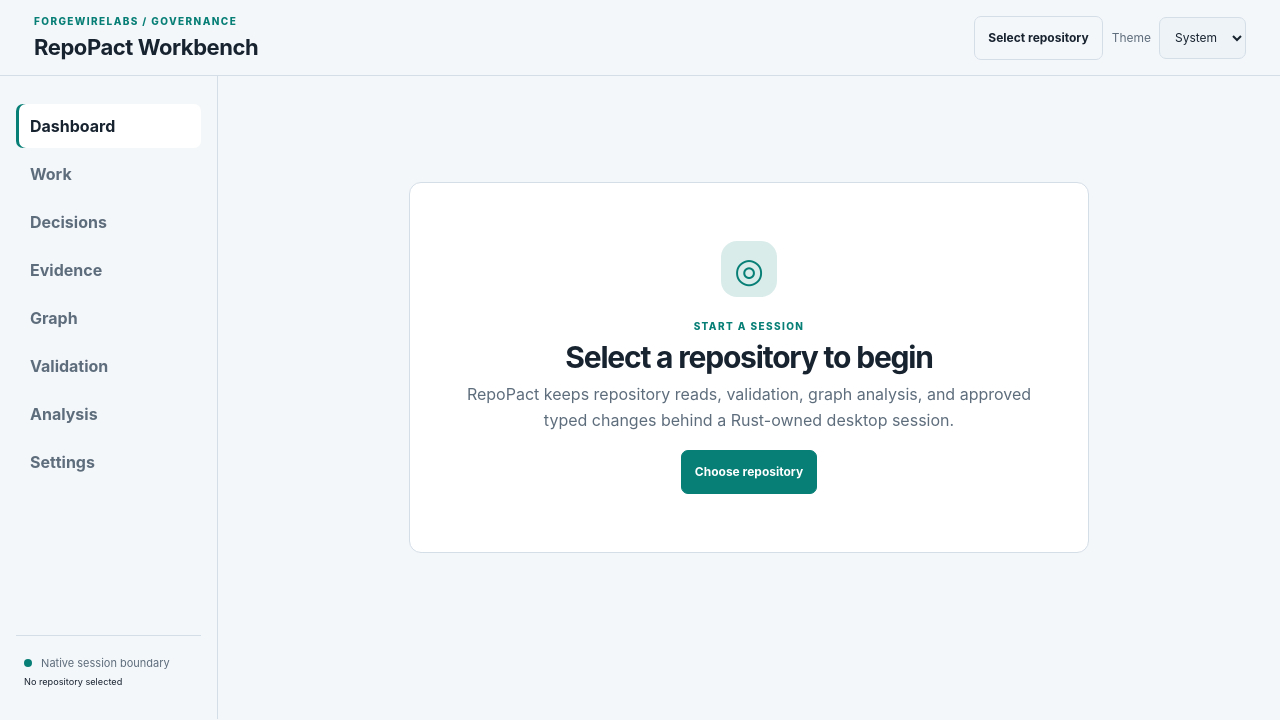
Scenario: adaptive workbench information architecture › discloses working-overlay and partial-coverage graph state, never as a plain durable map
Click the button "Choose repository" at {"x": 749, "y": 472}, box [681,450,817,494]
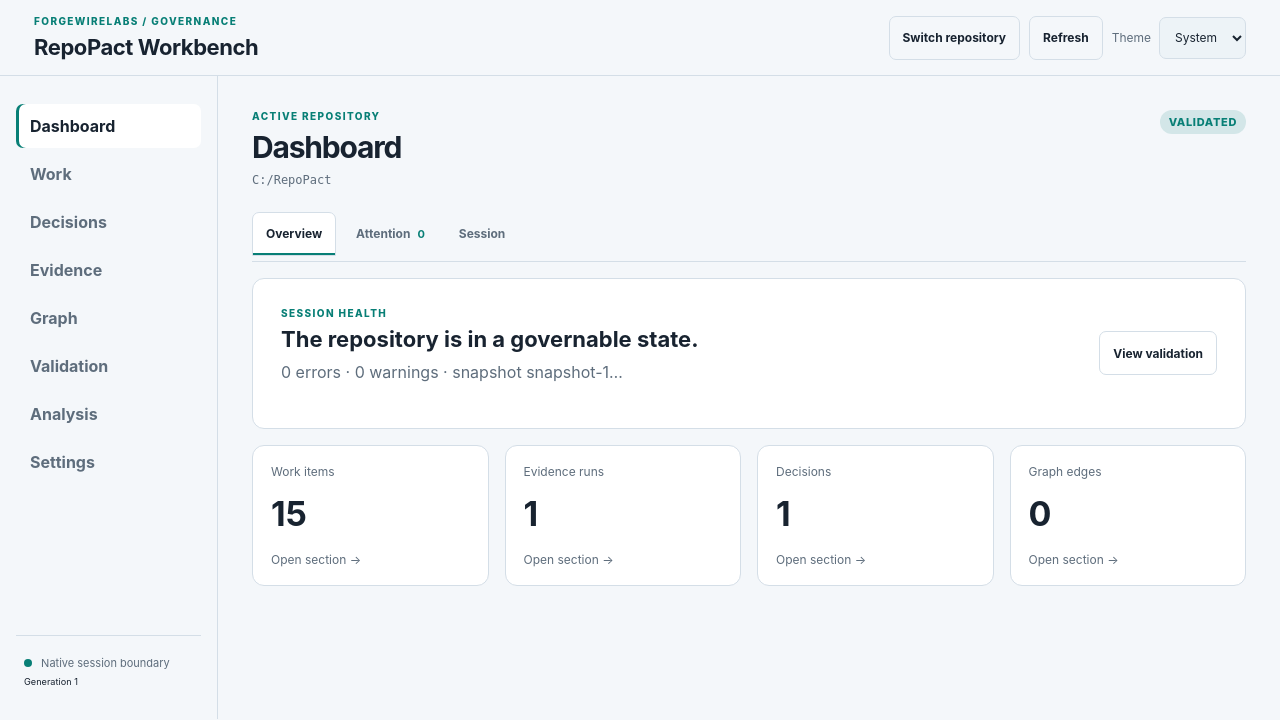
Expected: the heading "Dashboard" is shown, [252,129,401,165]
Click the button "Graph" at {"x": 108, "y": 318}, box [16,296,201,340]
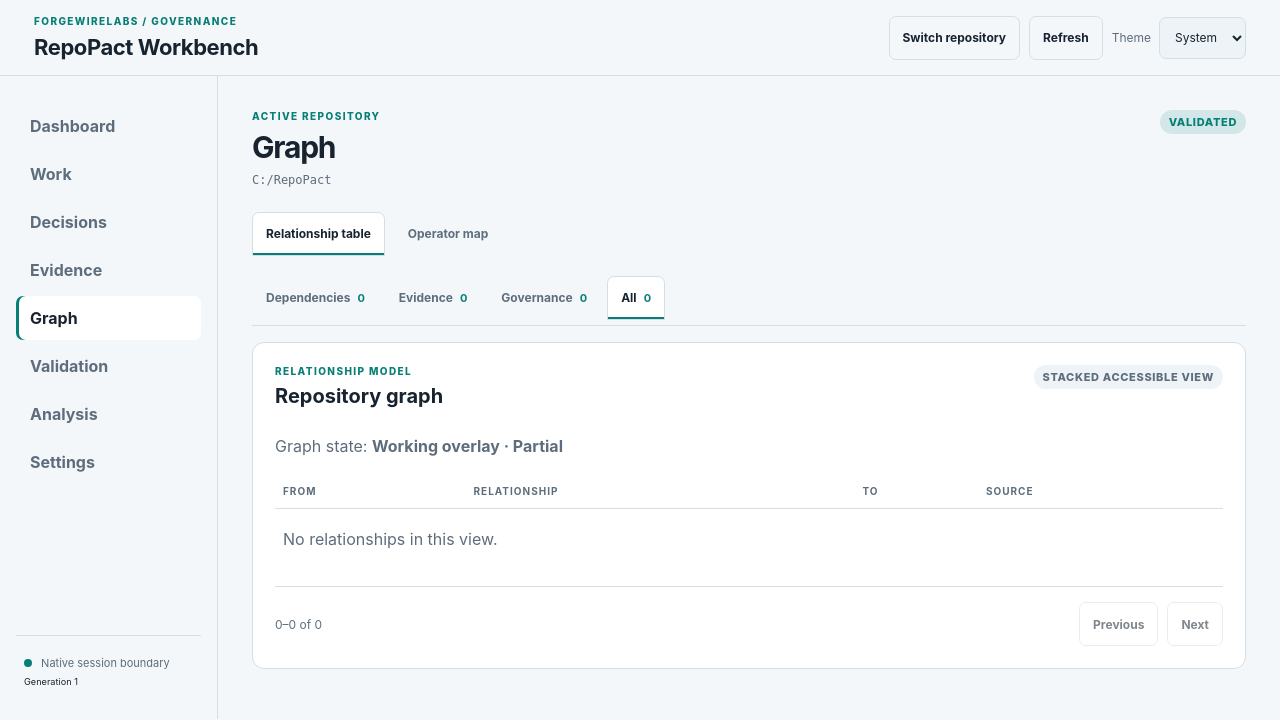
Expected: the heading "Repository graph" is shown, [275,384,443,408]
Expected: the element with test id "graph-status" shows "Working overlay", [372,436,563,456]
Expected: the element with test id "graph-status" shows "Partial", [372,436,563,456]
